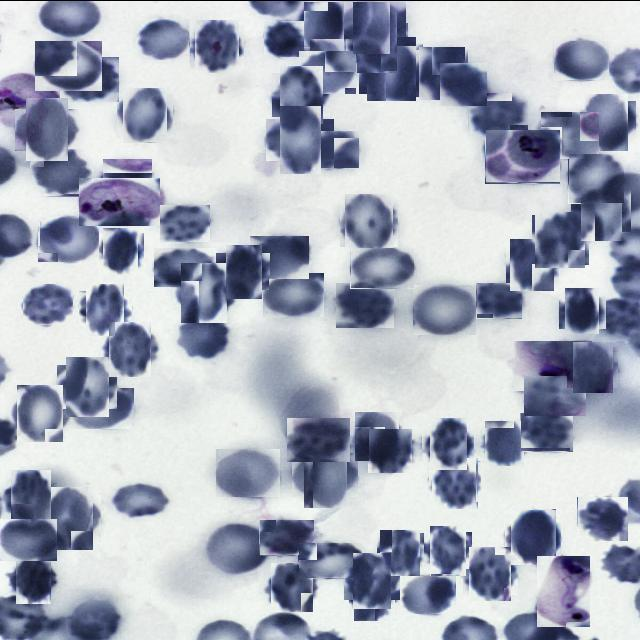red blood cell: (34, 40, 102, 91), (363, 40, 420, 96), (413, 284, 476, 334), (298, 446, 353, 502), (216, 448, 280, 496), (42, 490, 97, 545), (272, 112, 328, 166), (208, 523, 268, 573), (30, 148, 92, 196), (534, 212, 588, 266), (177, 264, 231, 318), (342, 195, 396, 248), (21, 102, 74, 156), (37, 216, 99, 262), (540, 111, 599, 159), (568, 153, 624, 203), (287, 417, 350, 461), (468, 92, 528, 138), (264, 272, 326, 316), (60, 54, 119, 100), (14, 387, 66, 439), (61, 360, 113, 412), (350, 247, 414, 288), (336, 282, 394, 327), (508, 511, 559, 562), (276, 68, 326, 120), (576, 184, 626, 236), (71, 387, 134, 428), (298, 50, 356, 94), (352, 17, 402, 68), (250, 235, 309, 278), (430, 458, 480, 508), (120, 90, 170, 140), (582, 96, 632, 146), (416, 48, 466, 98), (524, 375, 586, 415), (154, 247, 217, 286), (192, 21, 242, 70), (345, 0, 398, 46), (106, 324, 155, 373), (466, 548, 514, 598), (0, 518, 57, 560), (177, 311, 228, 357), (508, 240, 556, 288), (7, 473, 55, 521), (298, 542, 362, 578), (577, 496, 628, 541), (348, 556, 396, 603), (553, 40, 609, 80), (354, 413, 401, 459), (22, 283, 73, 325), (138, 16, 189, 58), (269, 564, 315, 610), (82, 286, 128, 332), (220, 248, 266, 294), (301, 2, 347, 48), (401, 575, 456, 613), (570, 344, 616, 389), (520, 412, 573, 451), (426, 420, 470, 466), (440, 62, 487, 105), (259, 519, 314, 555), (308, 130, 359, 168), (426, 528, 470, 572), (368, 428, 412, 472), (112, 482, 168, 516), (379, 530, 422, 574), (160, 204, 210, 241), (483, 421, 526, 464), (12, 556, 54, 600), (102, 158, 152, 192), (352, 576, 392, 618), (476, 282, 522, 318), (264, 20, 310, 56), (100, 230, 141, 270), (562, 290, 602, 330)
trophozoite: (485, 128, 560, 182), (80, 177, 162, 225), (514, 340, 592, 390), (536, 554, 590, 626)
